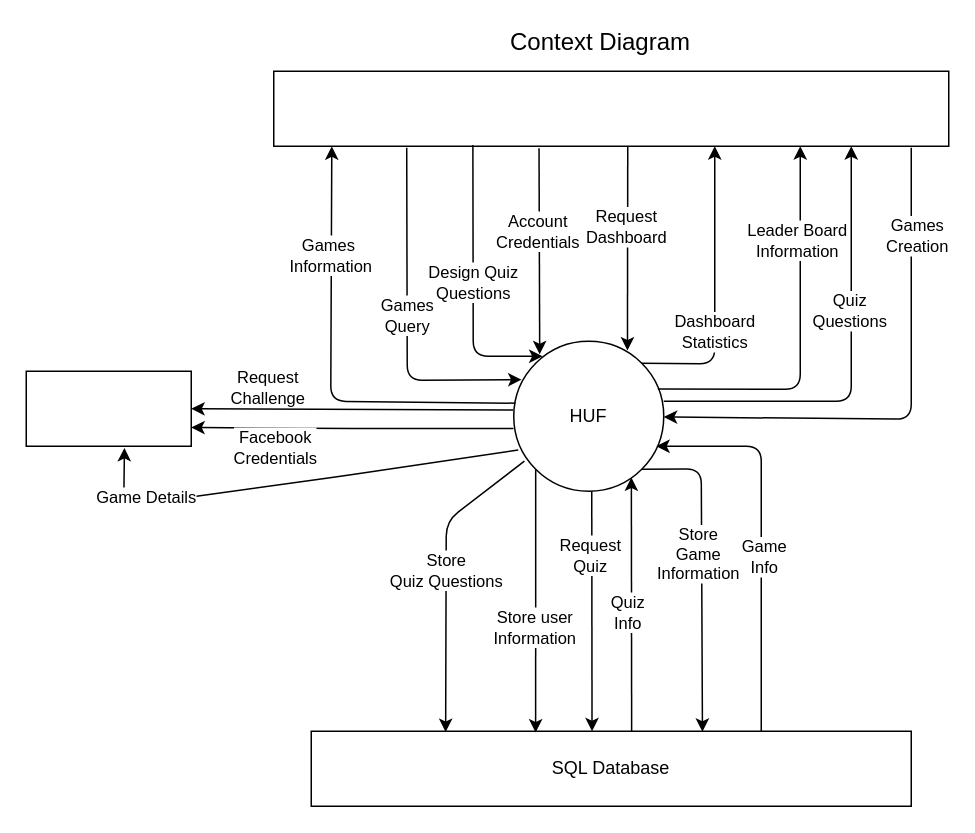
Image size: 975x833. Some labels were removed from this diagram. Each missing label, with the centre of its shape:
Facebook API: [108,408]
User: [610,108]
